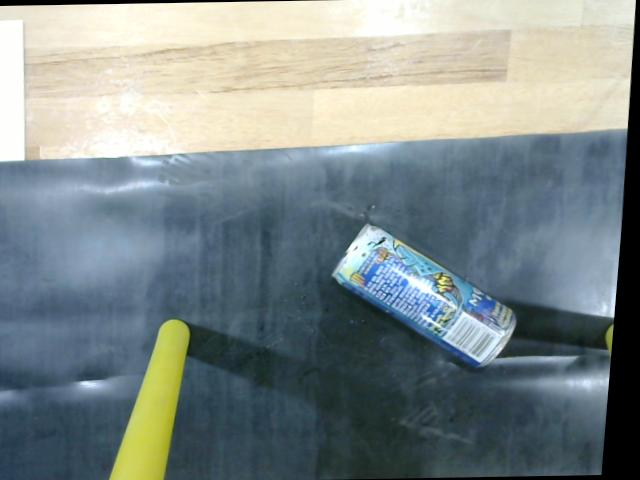can: (333, 218, 534, 381)
